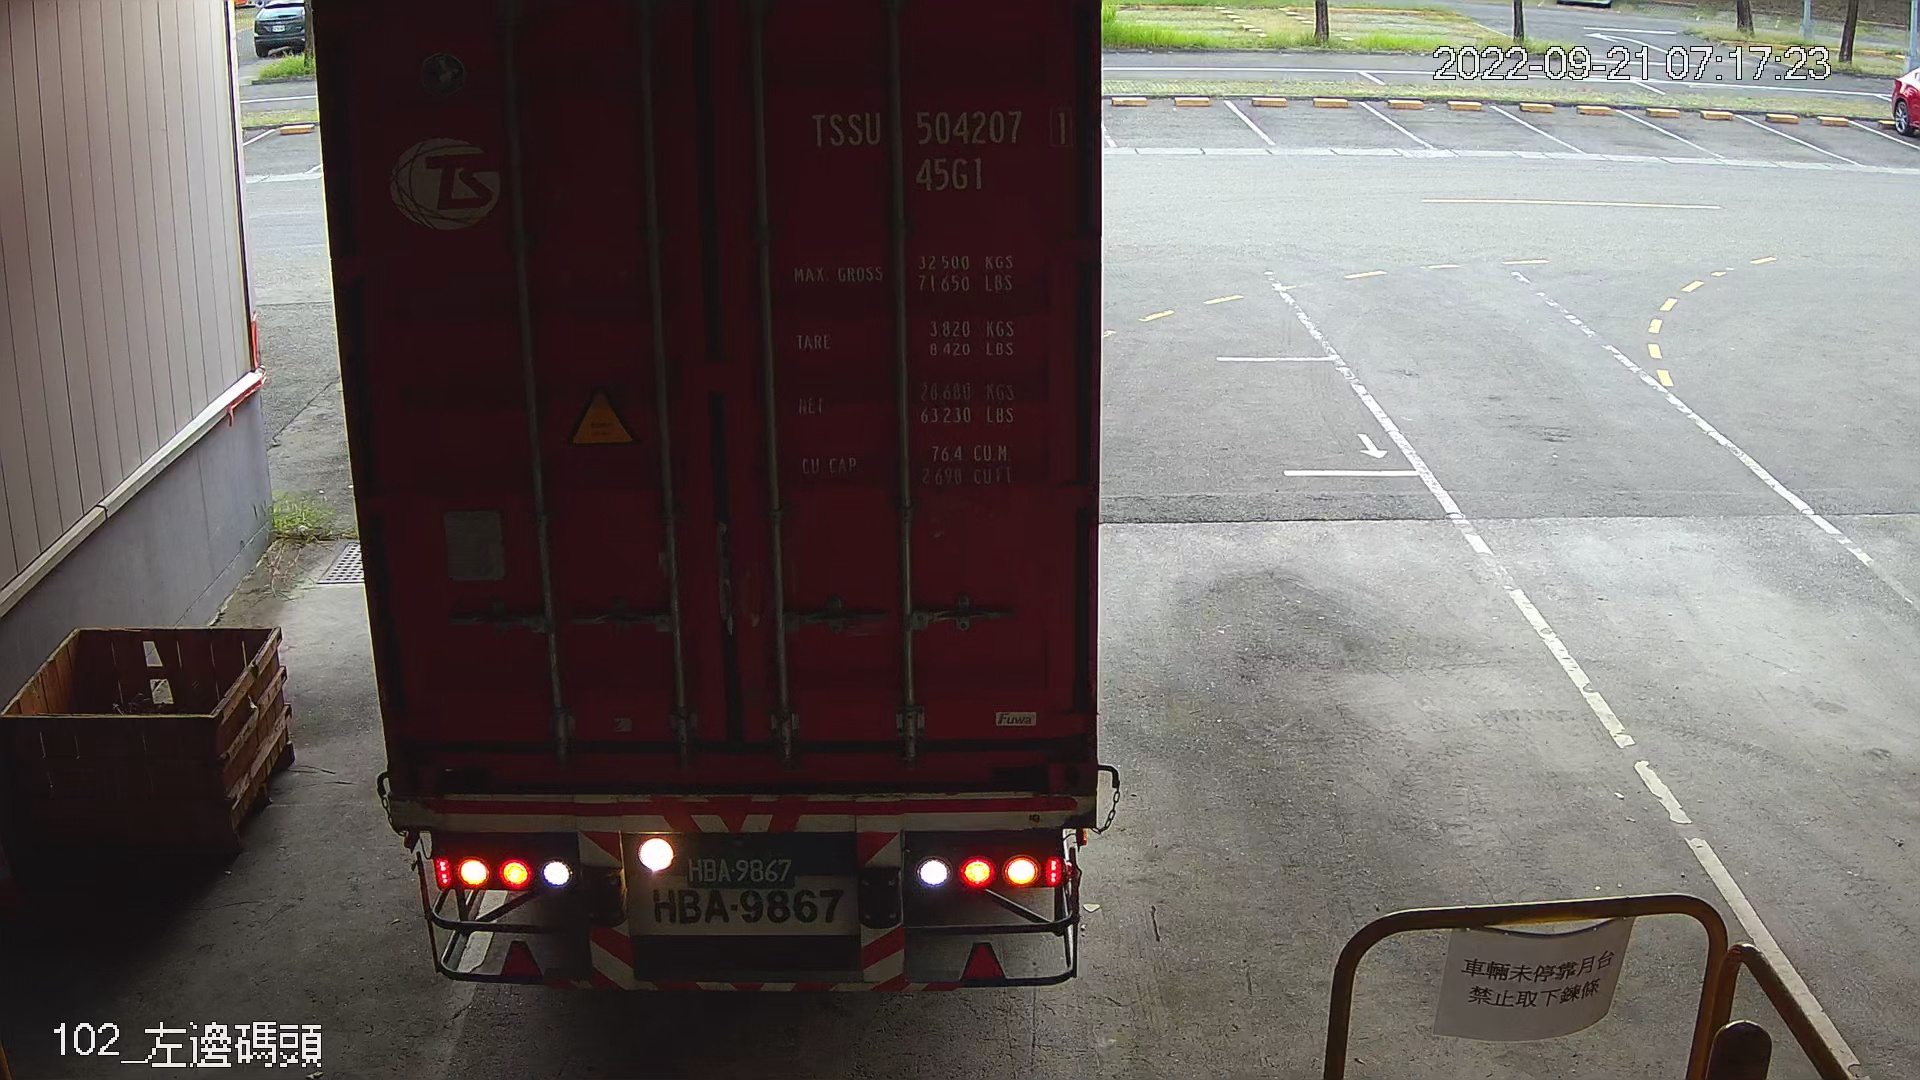container: (789, 94, 1091, 198)
